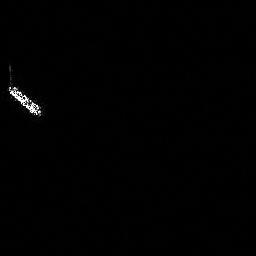ship: (7, 85, 42, 116)
